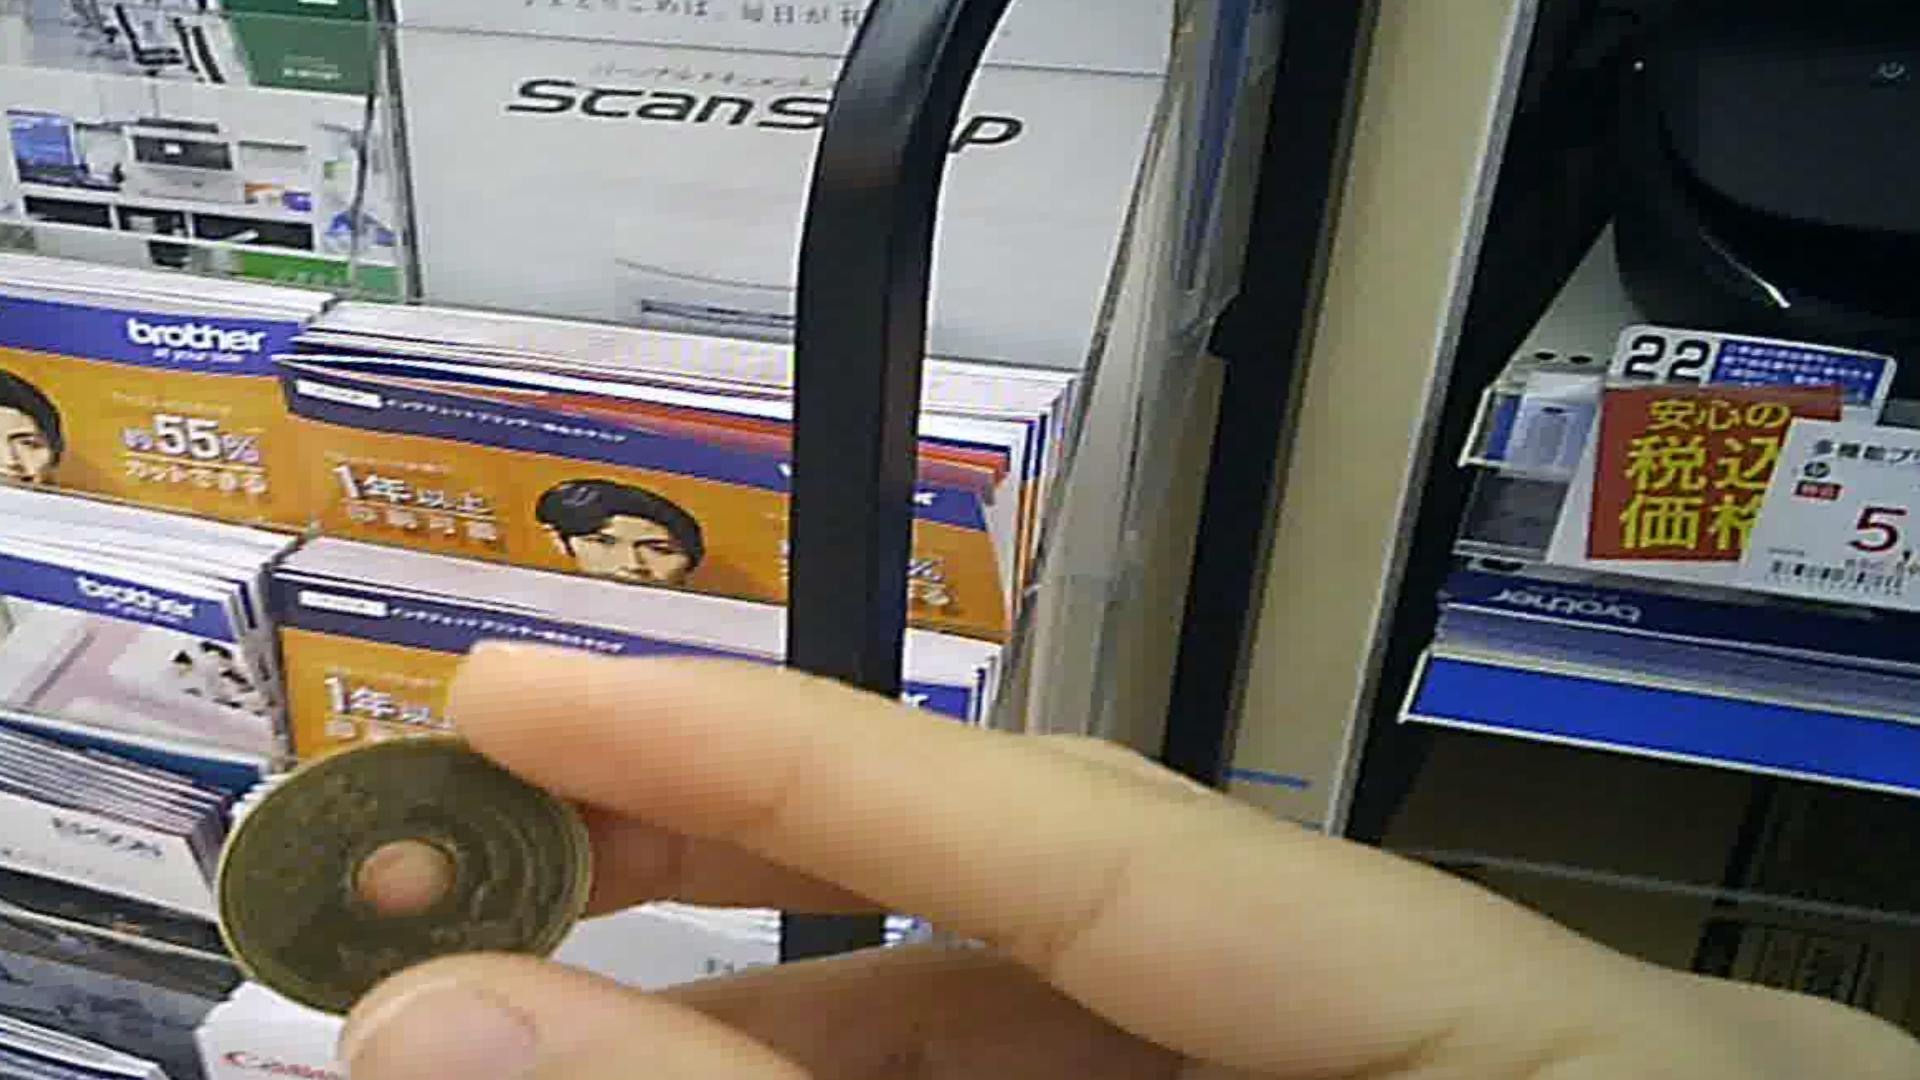5 Yen: (202, 731, 604, 1000)
